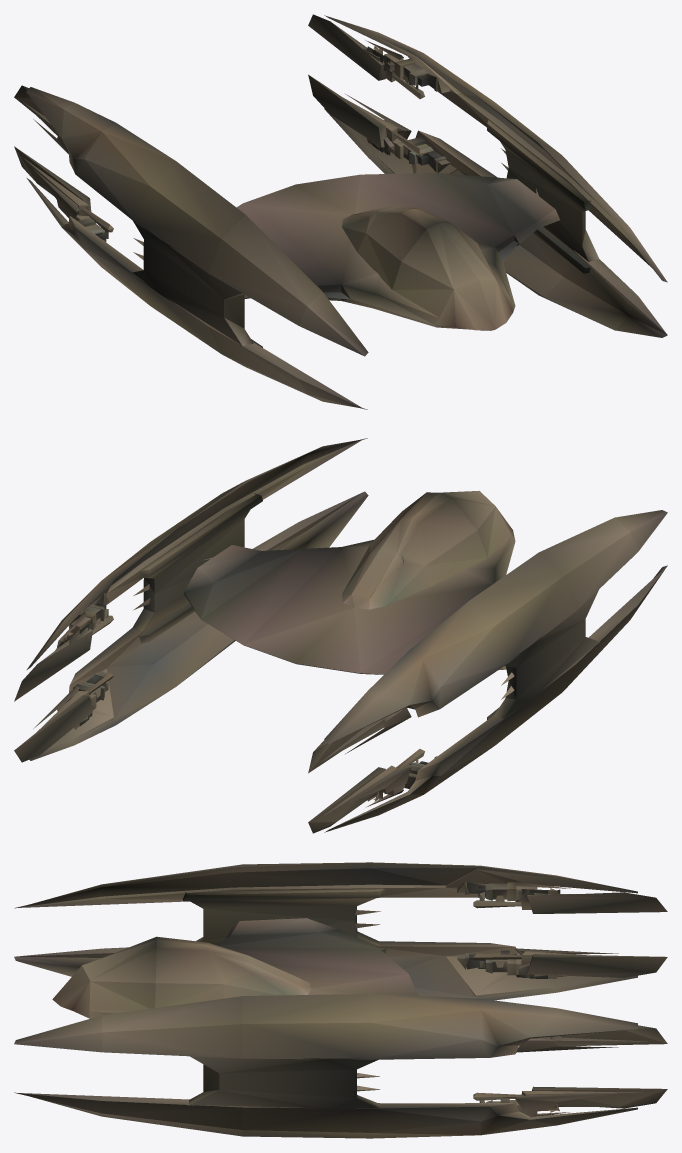
Rendered from vulture.glb.
3 renders of one model, top to bottom at view 1: azimuth 30°, elevation 25°; view 2: azimuth 150°, elevation 25°; view 3: azimuth 270°, elevation 25°, orthographic. The views are drawn at different scales.
Parts seen in each view (by area): view 1: vulture; view 2: vulture; view 3: vulture.
Boxes of the visible parts, left/top/right/bottom form: vulture: left=14, top=14, right=667, bottom=409; vulture: left=14, top=438, right=667, bottom=833; vulture: left=14, top=862, right=667, bottom=1138.
Bounding box in the file's own units: 4.28 × 1.73 × 7.07.
